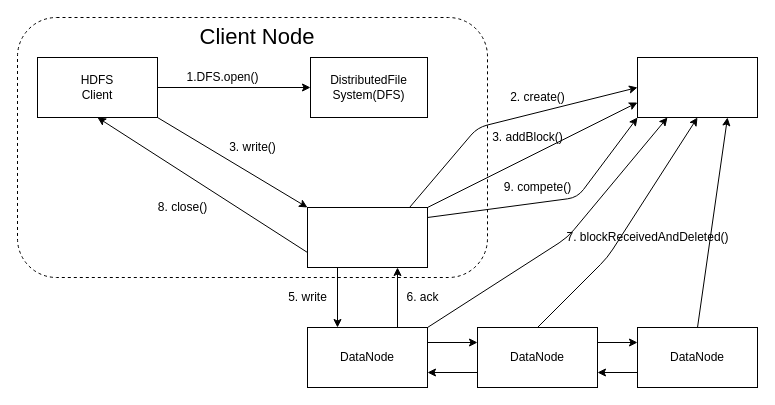
Image size: 775x405. Some labels were removed from this diagram. Each missing label, with the centre of its shape:
"DFSOutputStream" goes at [367,237].
"NameNode" goes at [697,87].
